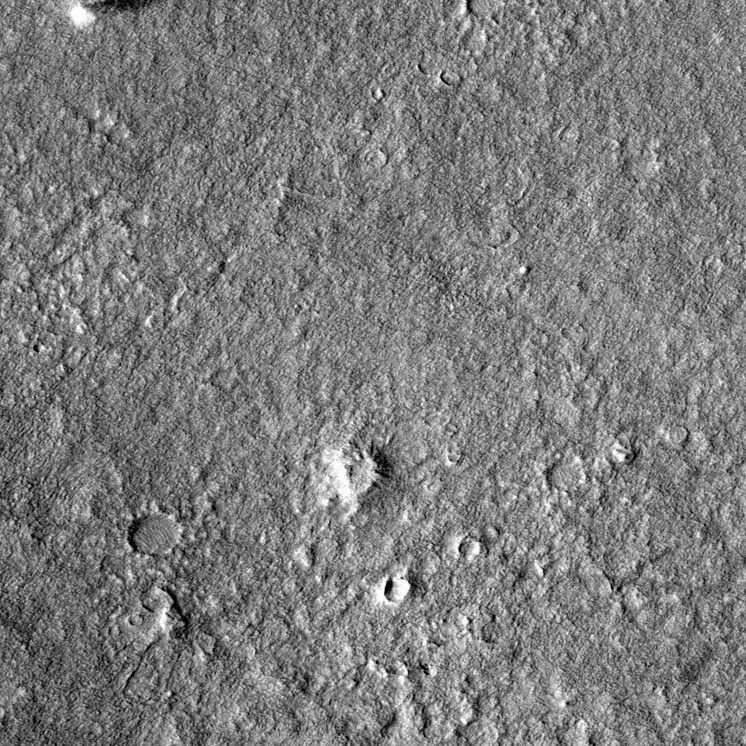dust_devil: (64, 1, 161, 36)
